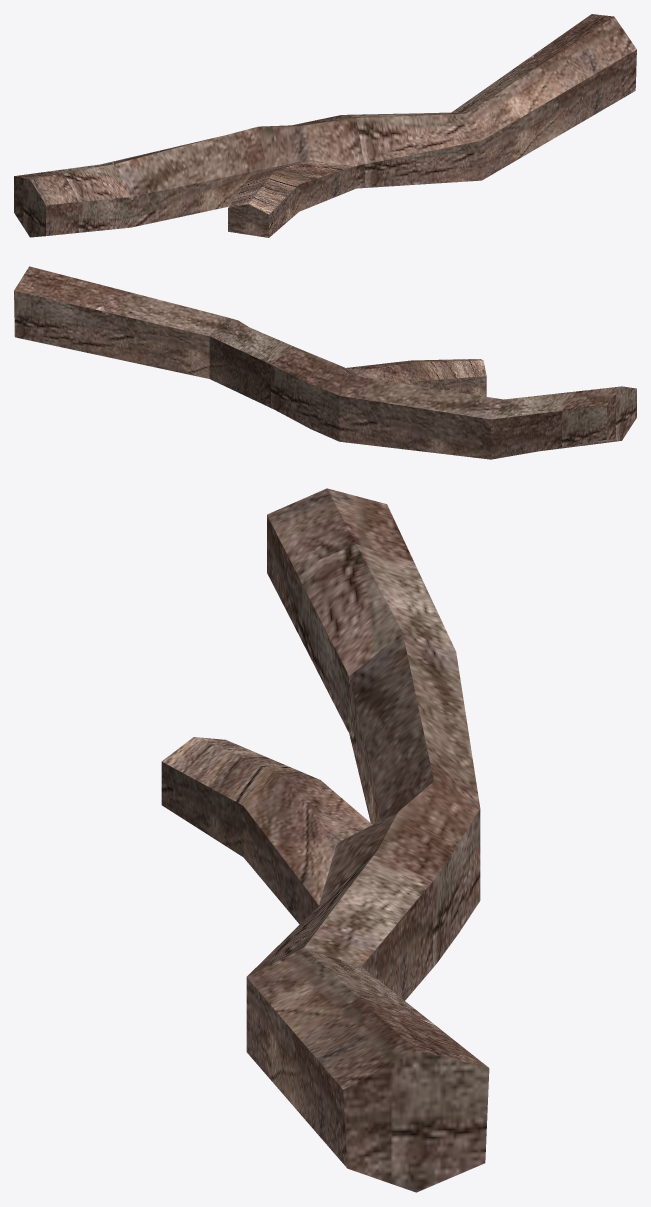
The model's file is mutuk3.fbx.
3 renders of one model, top to bottom at view 1: azimuth 30°, elevation 25°; view 2: azimuth 150°, elevation 25°; view 3: azimuth 270°, elevation 25°, orthographic. The views are drawn at different scales.
Visible parts, largest first — view 1: Cube; view 2: Cube; view 3: Cube.
Boxes of the visible parts, box(x1,y1,x2,y2) form: Cube: box(14, 14, 636, 237); Cube: box(14, 266, 636, 459); Cube: box(161, 488, 489, 1192).
Size of the model in its own units: 248 by 35.99 by 61.51.
